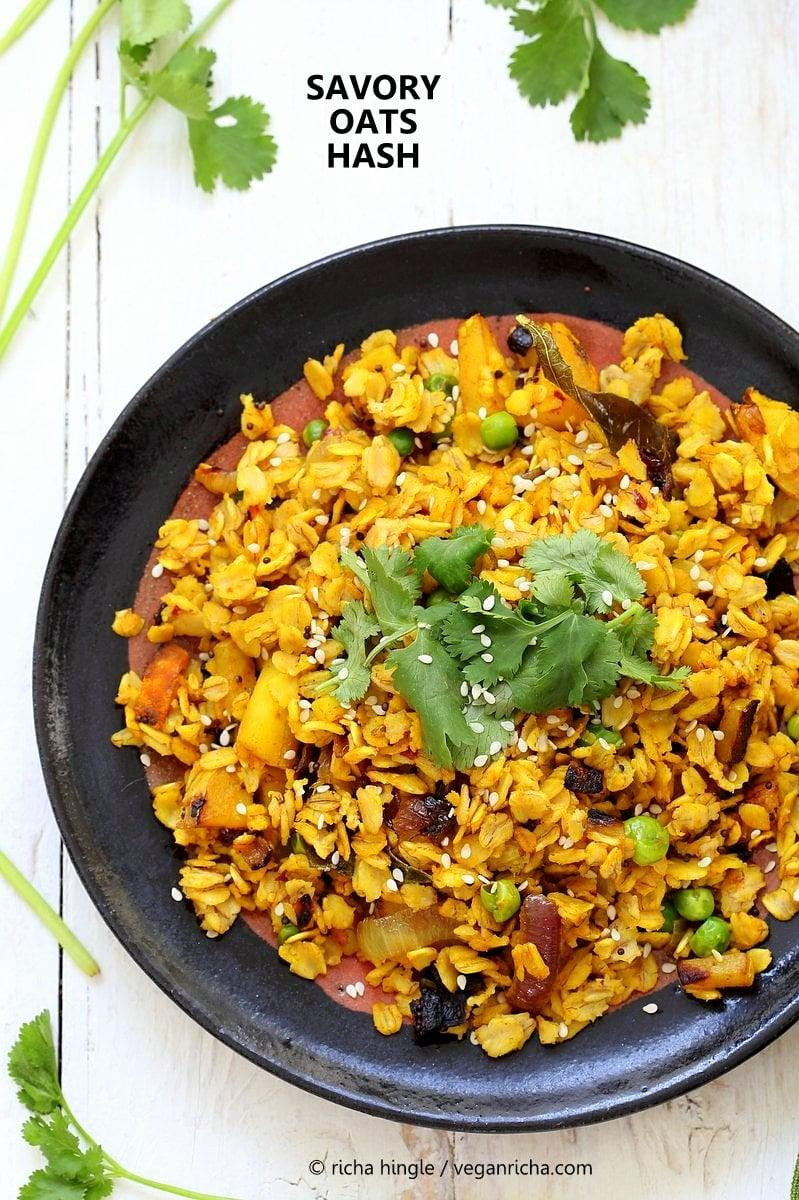poha: (124, 291, 799, 1074)
